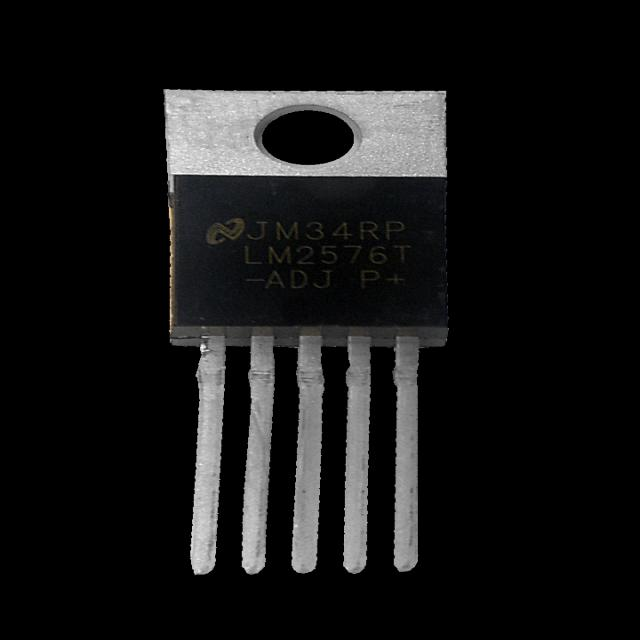Transistor: (171, 98, 443, 565)
